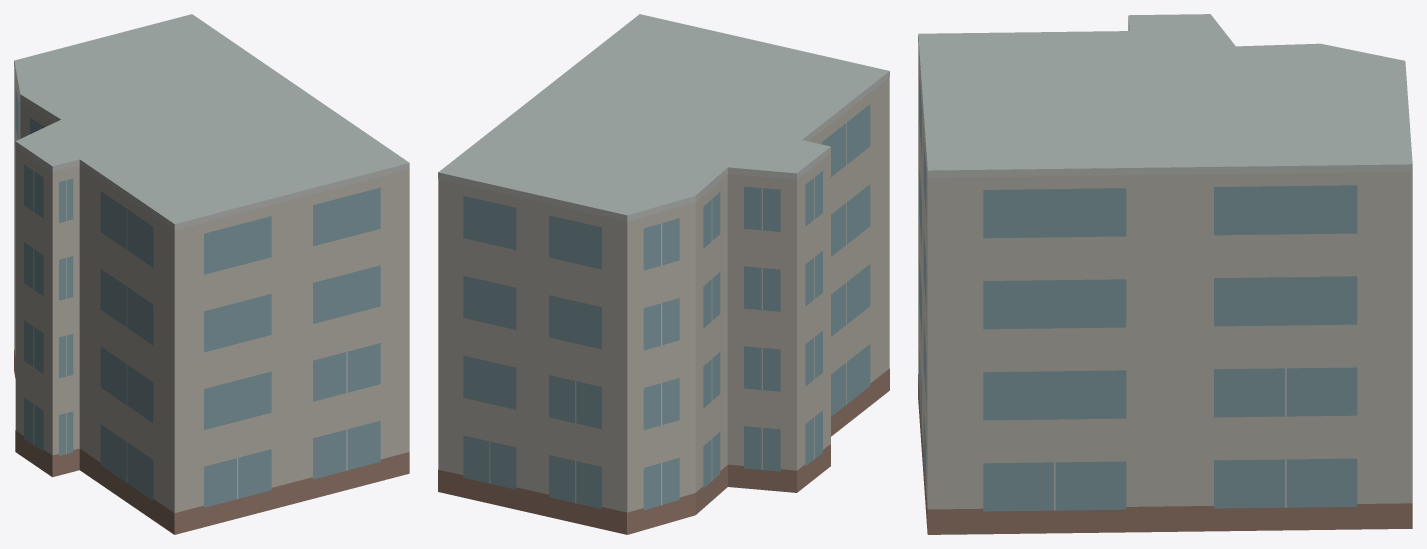
Rendered from residential-3997a220-0c97-4930-9eaa-38574724338f.glb.
3 renders of one model, left to right at view 1: azimuth 30°, elevation 25°; view 2: azimuth 150°, elevation 25°; view 3: azimuth 270°, elevation 25°, orthographic. The views are drawn at different scales.
Visible parts, largest first — view 1: residential-3997a220-0c97-4930-9eaa-38574724338f.tmp; view 2: residential-3997a220-0c97-4930-9eaa-38574724338f.tmp; view 3: residential-3997a220-0c97-4930-9eaa-38574724338f.tmp.
Part boxes in pixels (left/top/right/bottom): residential-3997a220-0c97-4930-9eaa-38574724338f.tmp: left=14, top=14, right=409, bottom=534; residential-3997a220-0c97-4930-9eaa-38574724338f.tmp: left=438, top=14, right=889, bottom=534; residential-3997a220-0c97-4930-9eaa-38574724338f.tmp: left=918, top=14, right=1412, bottom=534.
Size of the model in its own units: 11.25 by 12.2 by 15.02.
